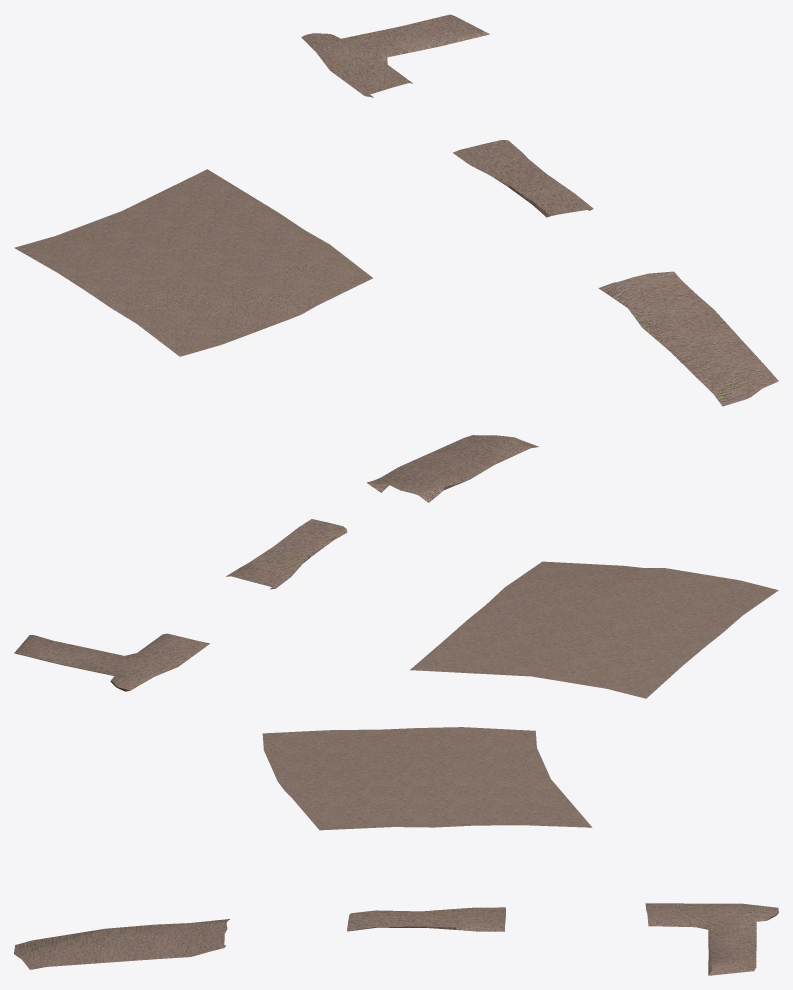
File: SM_Scene_A_Dirt00.fbx
The picture shows the model from 3 angles, top to bottom: view 1: azimuth 30°, elevation 25°; view 2: azimuth 150°, elevation 25°; view 3: azimuth 270°, elevation 25°; orthographic projection. The views are drawn at different scales.
Visible parts, largest first — view 1: SM_Scene_A_Dirt00; view 2: SM_Scene_A_Dirt00; view 3: SM_Scene_A_Dirt00.
Part boxes in pixels (x1=…): SM_Scene_A_Dirt00: x1=14, y1=14, x2=778, y2=406; SM_Scene_A_Dirt00: x1=14, y1=435, x2=778, y2=698; SM_Scene_A_Dirt00: x1=14, y1=727, x2=778, y2=975.
Bounding box in the file's own units: 11719 × 1013 × 15378.
